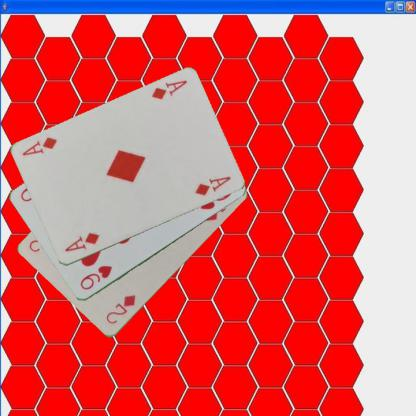2d: (103, 292, 137, 326)
9h: (77, 263, 114, 292)
Ad: (62, 230, 101, 254), (149, 78, 188, 101)
